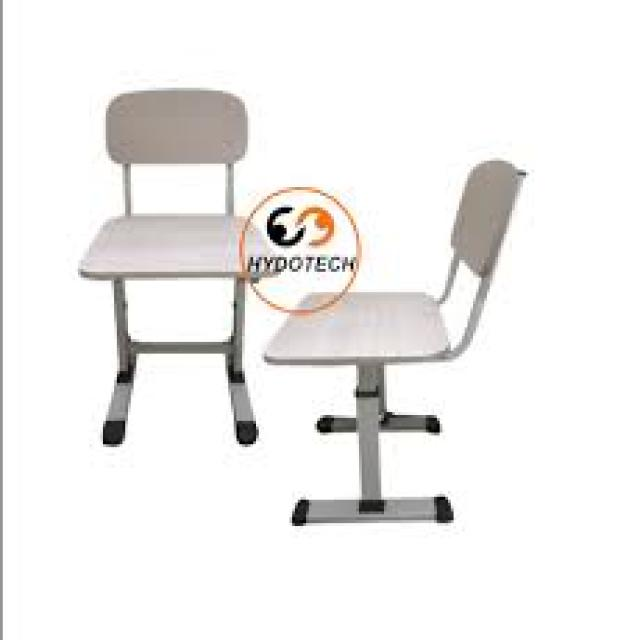chair: (260, 156, 529, 526), (78, 82, 271, 452)
